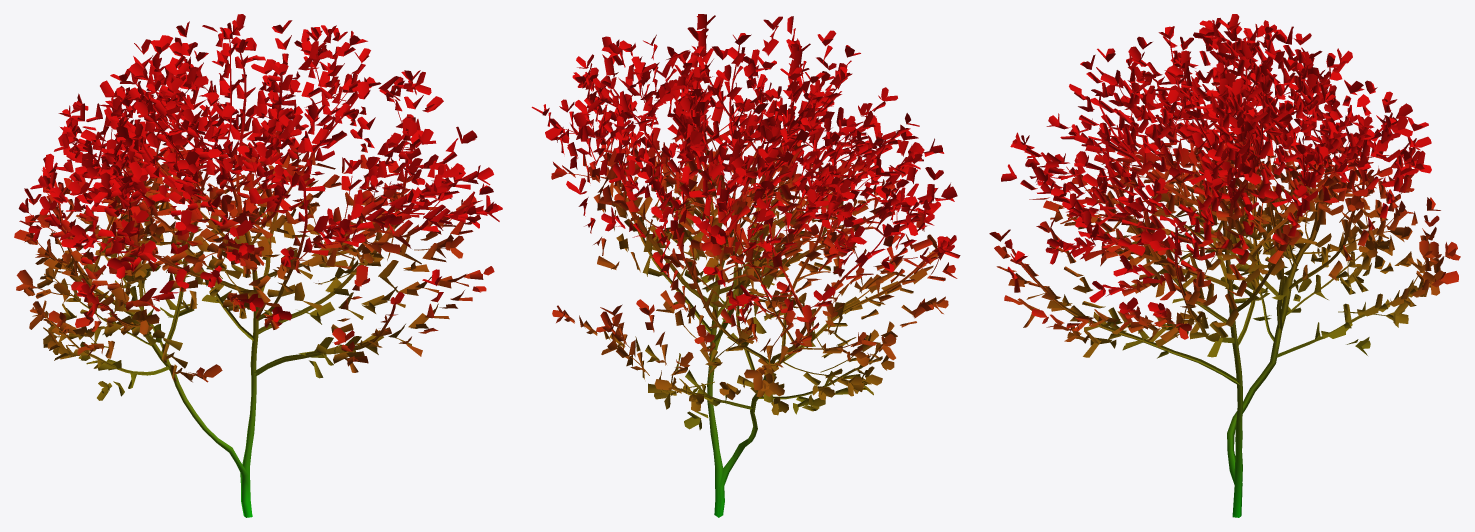
The model's file is Var2_LOD4.fbx.
3 renders of one model, left to right at view 1: azimuth 30°, elevation 25°; view 2: azimuth 150°, elevation 25°; view 3: azimuth 270°, elevation 25°, orthographic.
Visible parts, largest first — view 1: _tqwv_Var2_LOD4; view 2: _tqwv_Var2_LOD4; view 3: _tqwv_Var2_LOD4.
Boxes of the visible parts, x1,y1,x2,y2 form: _tqwv_Var2_LOD4: (14,14,502,517); _tqwv_Var2_LOD4: (531,14,960,517); _tqwv_Var2_LOD4: (989,14,1460,517).
Size of the model in its own units: 69.95 by 78.22 by 70.39.
